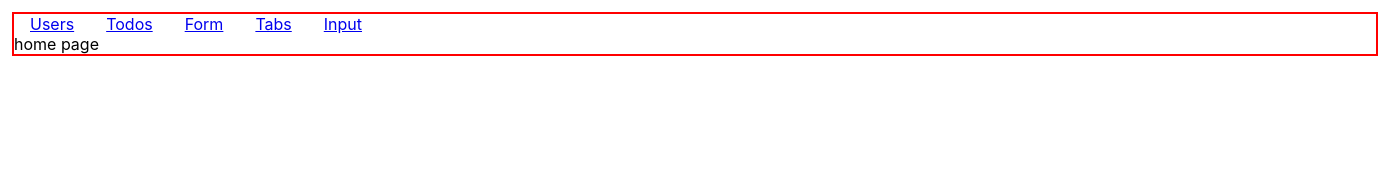
mock user tests › mock user fixture data
The width and height of the screenshot is (1378, 172).
Check: the text "home page" is shown, box [14,34,99,54]
Click the link "Users" at {"x": 52, "y": 24}, box [30,14,74,34]
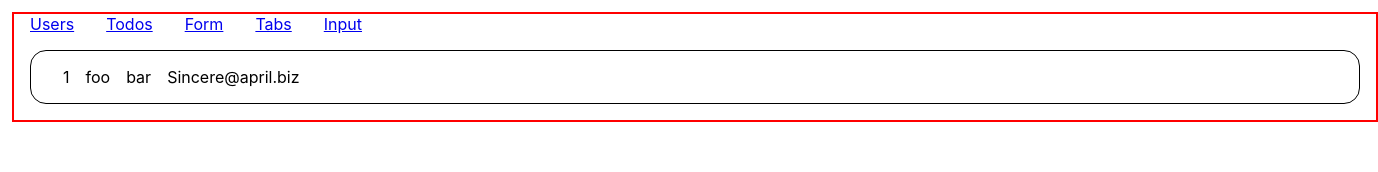
Check: the text "home page" is gone
Check: the text "foo" is shown, box [86,67,110,87]
